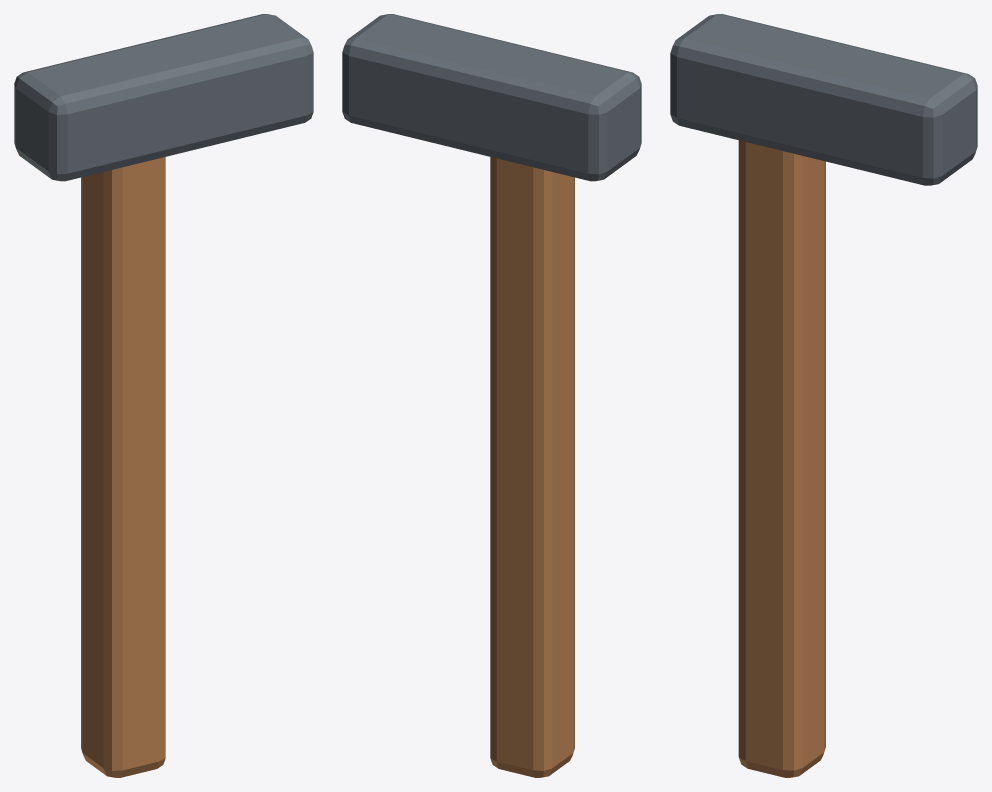
Rendered from hammer.glb.
3 renders of one model, left to right at view 1: azimuth 30°, elevation 25°; view 2: azimuth 150°, elevation 25°; view 3: azimuth 330°, elevation 25°, orthographic. The views are drawn at different scales.
Visible parts, largest first — view 1: hammer; view 2: hammer; view 3: hammer.
Boxes of the visible parts, bbox=[...] form: hammer: bbox=[14, 14, 313, 777]; hammer: bbox=[342, 14, 641, 777]; hammer: bbox=[670, 14, 977, 777].
Size of the model in its own units: 0.13 by 0.33 by 0.04.
